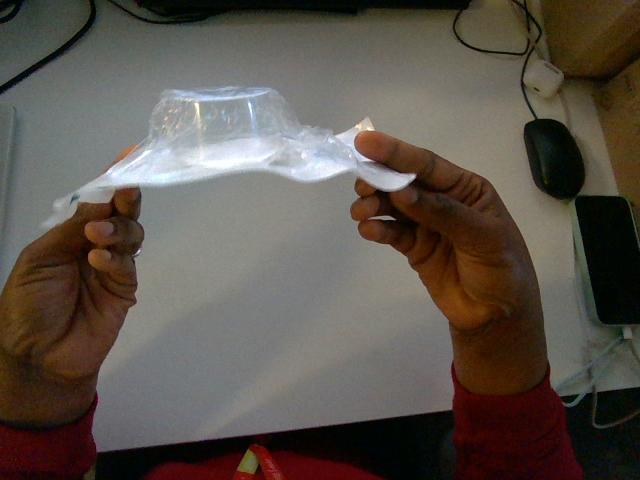gallipot: (45, 87, 414, 227)
